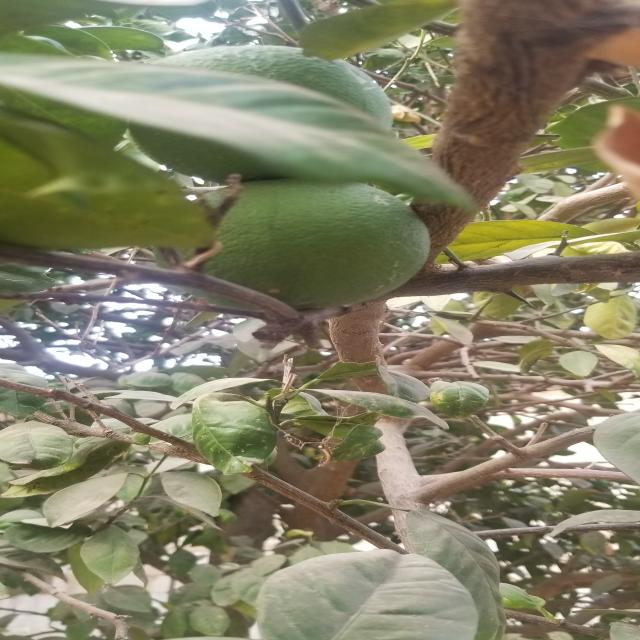Unripe: (232, 178, 441, 312)
